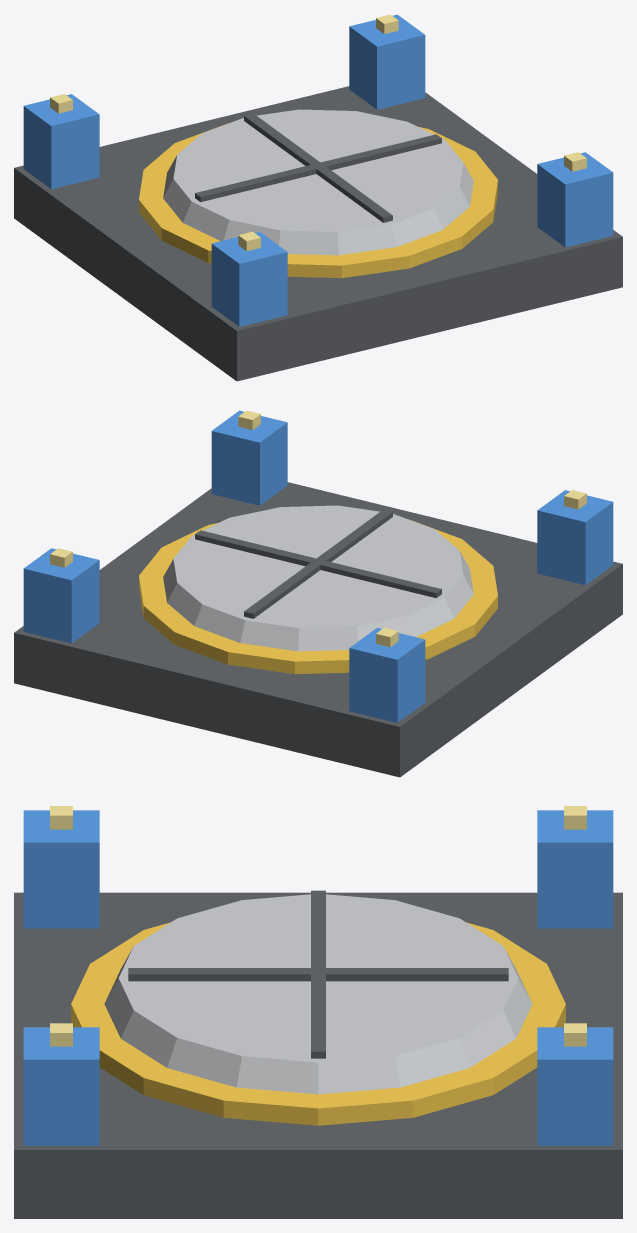
File: Silo.fbx
The picture shows the model from 3 angles, top to bottom: view 1: azimuth 30°, elevation 25°; view 2: azimuth 150°, elevation 25°; view 3: azimuth 270°, elevation 25°; orthographic projection. The views are drawn at different scales.
Parts seen in each view (by area): view 1: Dark.005, Metal.005, Team.005, Hazard.004, Light.005; view 2: Dark.005, Metal.005, Team.005, Hazard.004, Light.005; view 3: Dark.005, Metal.005, Team.005, Hazard.004, Light.005.
Boxes of the visible parts, x1,y1,x2,y2 form: Dark.005: (14,86,622,381); Metal.005: (163,109,473,255); Team.005: (23,14,613,326); Hazard.004: (139,123,497,278); Light.005: (50,14,586,251); Dark.005: (14,482,622,777); Metal.005: (163,505,473,651); Team.005: (23,410,613,722); Hazard.004: (139,519,497,674); Light.005: (50,410,586,647); Dark.005: (14,890,622,1218); Metal.005: (104,894,532,1094); Team.005: (23,810,613,1145); Hazard.004: (71,922,565,1125); Light.005: (50,806,586,1046).
Size of the model in its own units: 320 by 99 by 320.
